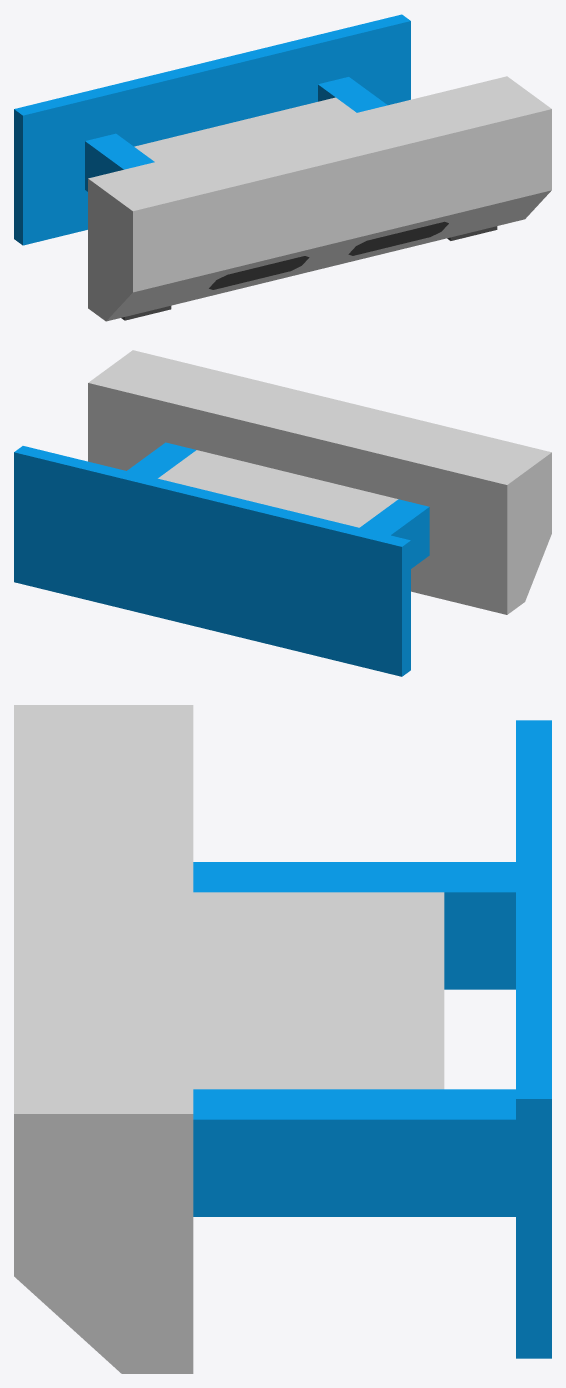
The model's file is bar_feeder_1.dae.
3 renders of one model, top to bottom at view 1: azimuth 30°, elevation 25°; view 2: azimuth 150°, elevation 25°; view 3: azimuth 270°, elevation 25°, orthographic. The views are drawn at different scales.
Visible parts, largest first — view 1: coords_ME_ID49_MA_material_8, coords_ME_ID3_MA_material_6, coords_ME_ID57_MA_material_8, coords_ME_ID37_MA_material_6, coords_ME_ID31_MA_material_6, coords_ME_ID43_MA_material, coords_ME_ID69_MA_material; view 2: coords_ME_ID3_MA_material_6, coords_ME_ID49_MA_material_8, coords_ME_ID57_MA_material_8, coords_ME_ID37_MA_material_6, coords_ME_ID31_MA_material_6; view 3: coords_ME_ID49_MA_material_8, coords_ME_ID57_MA_material_8, coords_ME_ID31_MA_material_6, coords_ME_ID3_MA_material_6, coords_ME_ID37_MA_material_6.
Part boxes in pixels (bbox=[...]): coords_ME_ID49_MA_material_8: bbox=[88, 76, 551, 321]; coords_ME_ID3_MA_material_6: bbox=[14, 14, 410, 245]; coords_ME_ID57_MA_material_8: bbox=[134, 97, 356, 161]; coords_ME_ID37_MA_material_6: bbox=[85, 133, 154, 191]; coords_ME_ID31_MA_material_6: bbox=[318, 77, 387, 112]; coords_ME_ID43_MA_material: bbox=[348, 221, 448, 255]; coords_ME_ID69_MA_material: bbox=[209, 256, 309, 289]; coords_ME_ID3_MA_material_6: bbox=[14, 446, 410, 676]; coords_ME_ID49_MA_material_8: bbox=[88, 350, 551, 614]; coords_ME_ID57_MA_material_8: bbox=[158, 450, 398, 527]; coords_ME_ID37_MA_material_6: bbox=[360, 499, 429, 568]; coords_ME_ID31_MA_material_6: bbox=[127, 442, 196, 478]; coords_ME_ID49_MA_material_8: bbox=[14, 705, 193, 1373]; coords_ME_ID57_MA_material_8: bbox=[193, 892, 444, 1089]; coords_ME_ID31_MA_material_6: bbox=[193, 1089, 515, 1216]; coords_ME_ID3_MA_material_6: bbox=[516, 720, 551, 1358]; coords_ME_ID37_MA_material_6: bbox=[193, 862, 515, 989].
Size of the model in its own units: 25.51 by 8.03 by 14.17.
